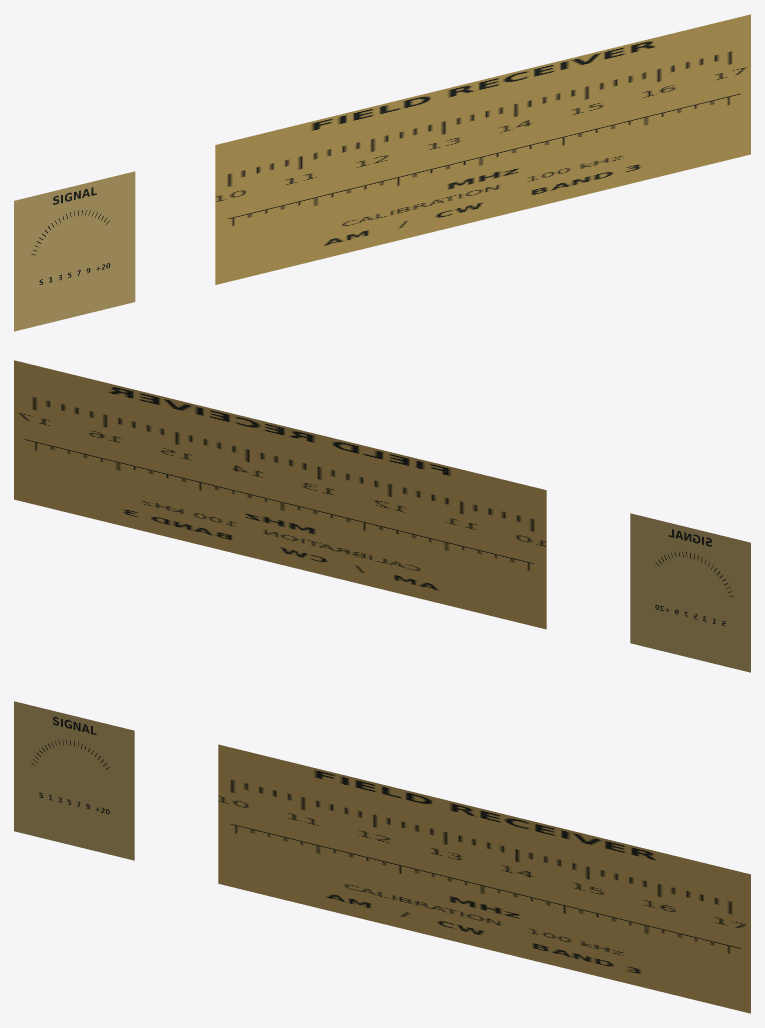
Rendered from SM_FieldKit_ReceiverDial.fbx.
3 renders of one model, top to bottom at view 1: azimuth 30°, elevation 25°; view 2: azimuth 150°, elevation 25°; view 3: azimuth 330°, elevation 25°, orthographic.
Visible parts, largest first — view 1: SM_FieldKit_ReceiverDial; view 2: SM_FieldKit_ReceiverDial; view 3: SM_FieldKit_ReceiverDial.
Part boxes in pixels (x1=…): SM_FieldKit_ReceiverDial: x1=14, y1=14, x2=750, y2=331; SM_FieldKit_ReceiverDial: x1=14, y1=360, x2=750, y2=672; SM_FieldKit_ReceiverDial: x1=14, y1=701, x2=750, y2=1013.
Bounding box in the file's own units: 0.414 × 0.002 × 0.075.
